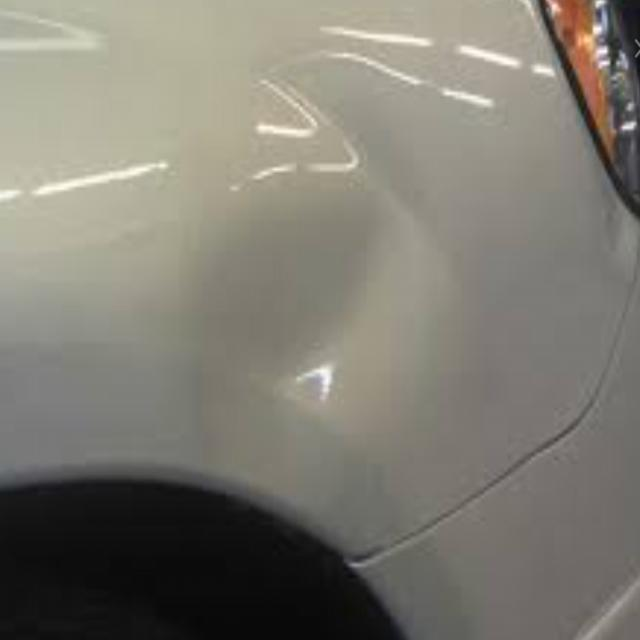dents: (203, 197, 477, 458)
